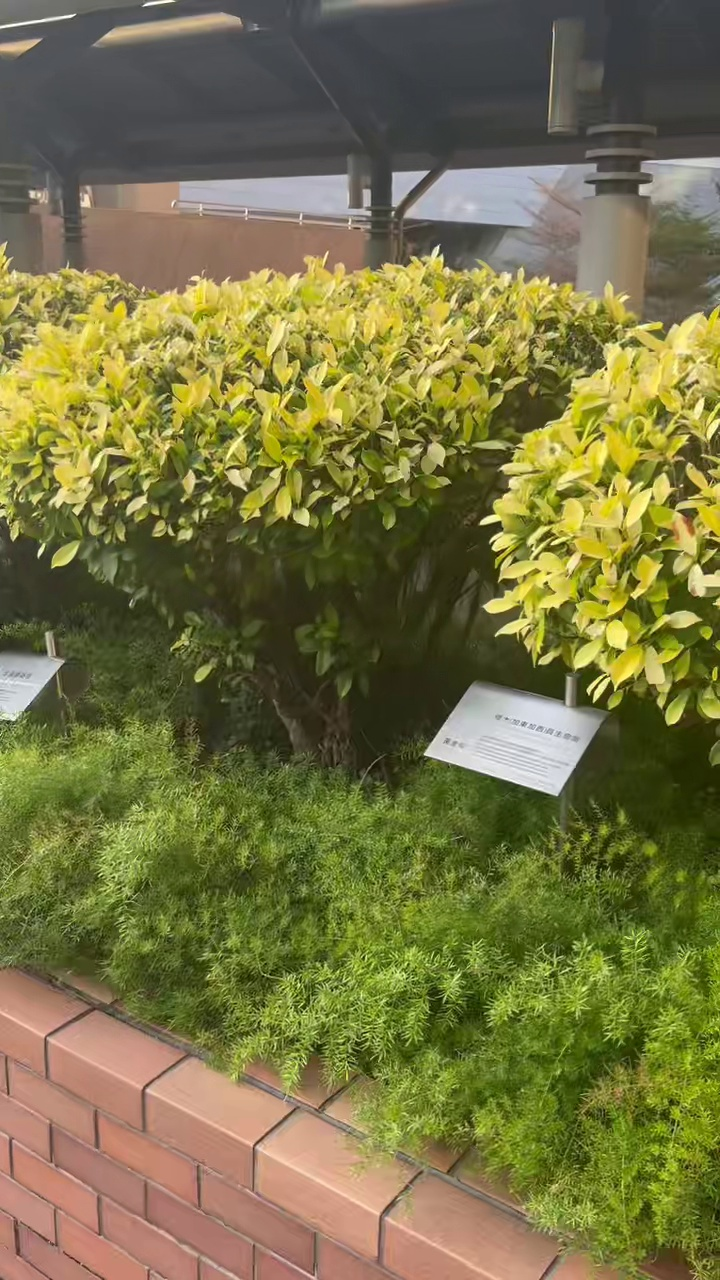Golden-leaves Fig: (0, 257, 628, 764)
